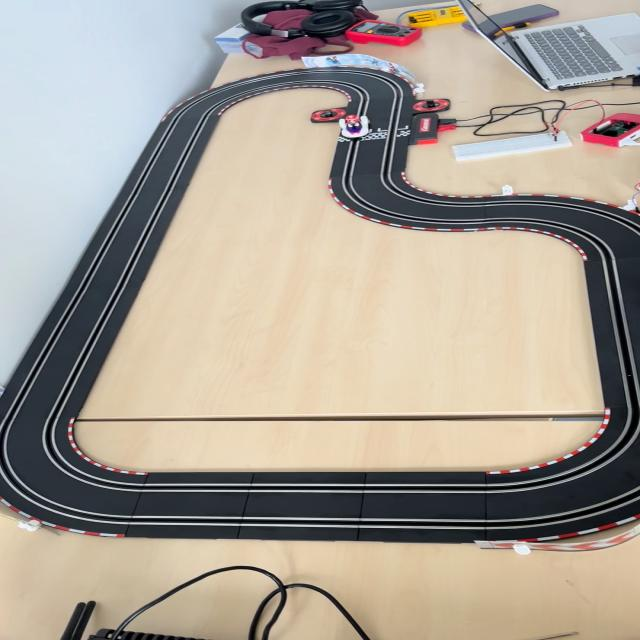mario: (337, 114, 372, 140)
